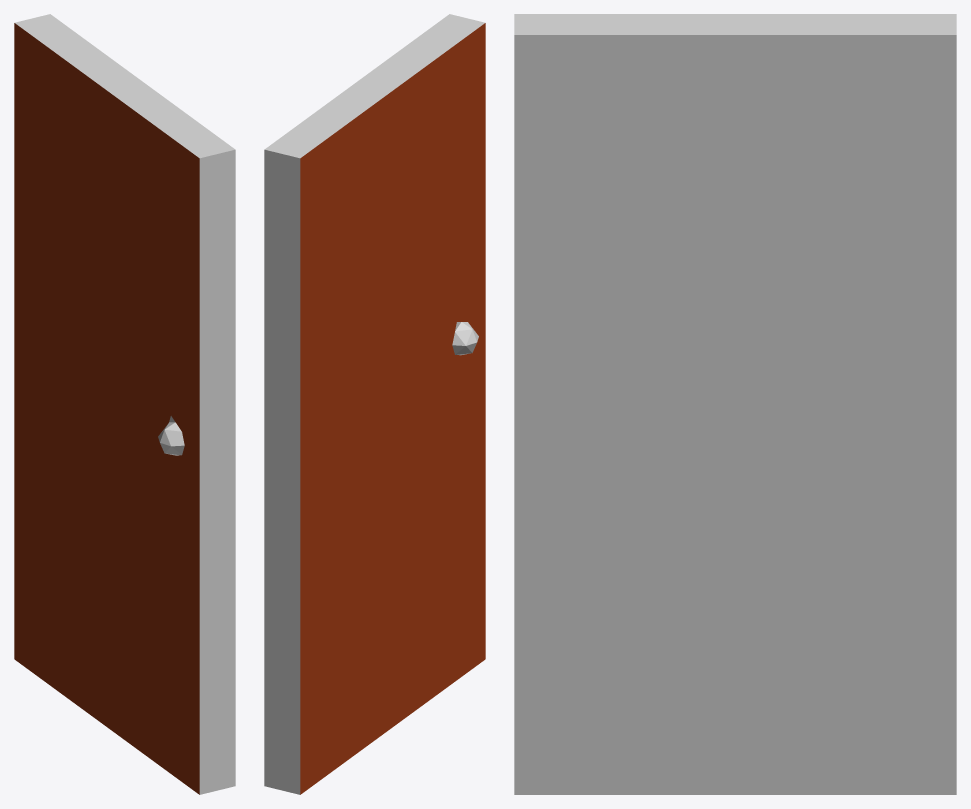
Rendered from door01e.fbx.
3 renders of one model, left to right at view 1: azimuth 30°, elevation 25°; view 2: azimuth 150°, elevation 25°; view 3: azimuth 270°, elevation 25°, orthographic. The views are drawn at different scales.
Visible parts, largest first — view 1: Door_StaticMesh; view 2: Door_StaticMesh; view 3: Door_StaticMesh.
Part boxes in pixels (bbox=[...]): Door_StaticMesh: bbox=[14, 14, 235, 794]; Door_StaticMesh: bbox=[264, 14, 485, 794]; Door_StaticMesh: bbox=[514, 14, 956, 794].
Bounding box in the file's own units: 12.68 × 149 × 78.74.
